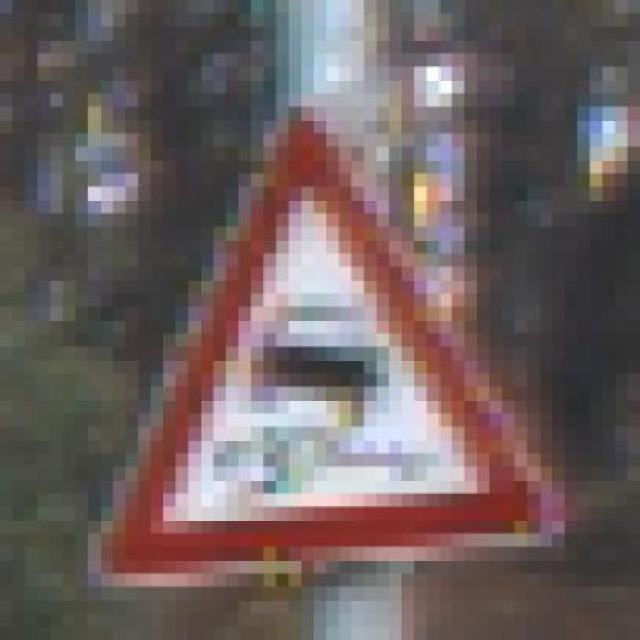Slippery Road Ahead: (75, 107, 590, 587)
